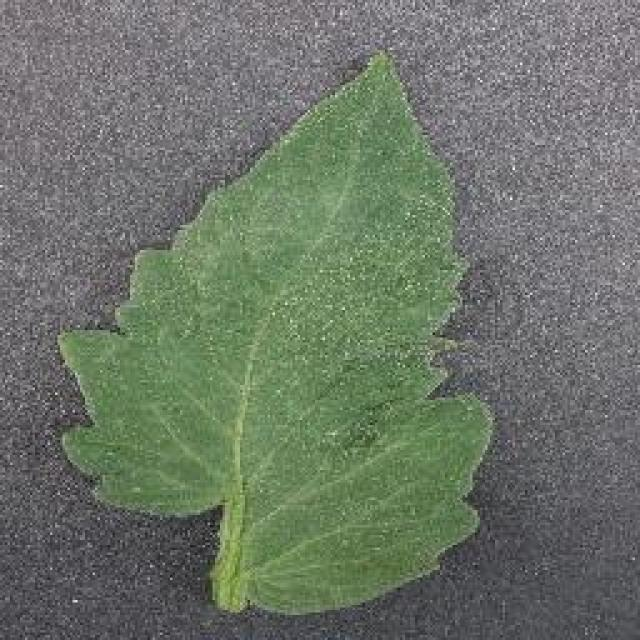Healthy: (50, 35, 505, 627)
